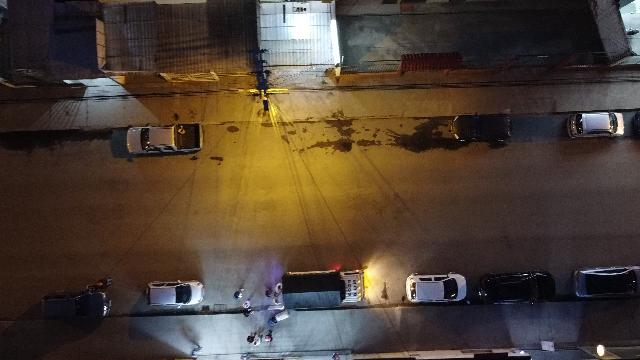Vehiculo: (479, 270, 556, 305), (126, 124, 204, 156), (41, 290, 113, 322), (571, 266, 640, 299), (406, 272, 468, 304), (451, 114, 512, 144), (146, 280, 204, 310), (568, 112, 624, 138)
